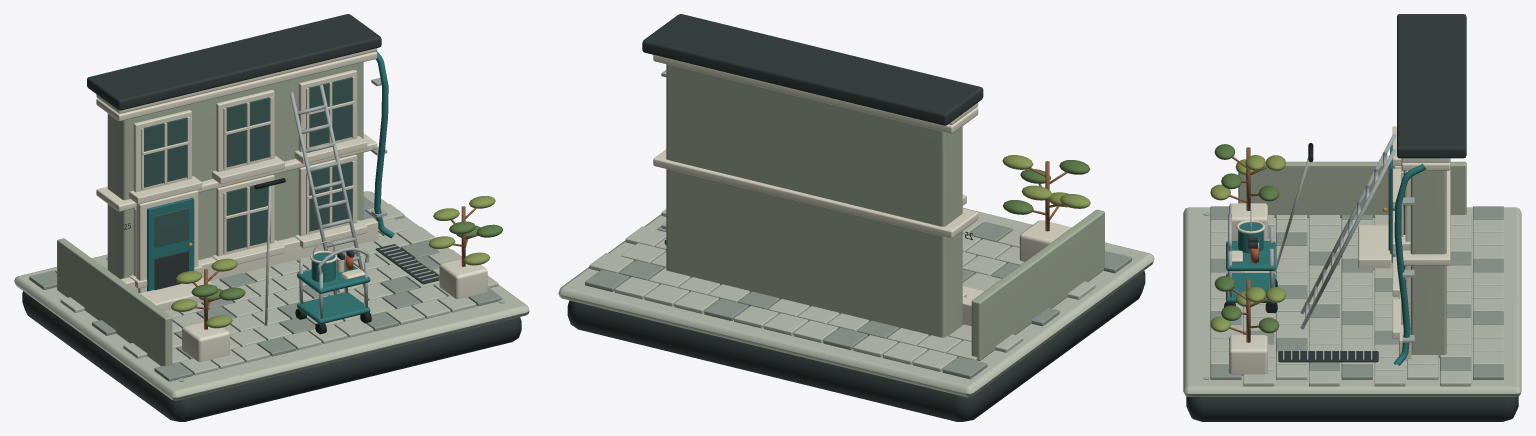
File: potera-v2.glb
The picture shows the model from 3 angles, left to right: view 1: azimuth 30°, elevation 25°; view 2: azimuth 150°, elevation 25°; view 3: azimuth 270°, elevation 25°; orthographic projection. The views are drawn at different scales.
Parts seen in each view (by area): view 1: potera_Warm chalk, potera_Cut limestone, potera_Graphite enamel, potera_Sage plaster, potera_Smoked window, potera_Petrol enamel, potera_Concrete, potera_Brushed aluminum, potera_Sunlit foliage, potera_Olive foliage, potera_Oiled timber, potera_Rubber and cables; view 2: potera_Sage plaster, potera_Graphite enamel, potera_Cut limestone, potera_Warm chalk, potera_Concrete, potera_Sunlit foliage, potera_Olive foliage; view 3: potera_Cut limestone, potera_Graphite enamel, potera_Sage plaster, potera_Concrete, potera_Warm chalk, potera_Petrol enamel, potera_Brushed aluminum, potera_Sunlit foliage, potera_Olive foliage, potera_Oiled timber.
Part boxes in pixels (x1,y1,x2,y2): potera_Warm chalk: [96, 48, 487, 361]; potera_Cut limestone: [14, 191, 529, 400]; potera_Graphite enamel: [22, 14, 521, 421]; potera_Sage plaster: [57, 62, 363, 366]; potera_Smoked window: [143, 77, 352, 251]; potera_Petrol enamel: [147, 51, 394, 324]; potera_Concrete: [29, 196, 501, 381]; potera_Brushed aluminum: [178, 78, 504, 381]; potera_Sunlit foliage: [171, 196, 495, 328]; potera_Olive foliage: [191, 221, 502, 300]; potera_Oiled timber: [193, 206, 478, 329]; potera_Rubber and cables: [254, 178, 371, 334]; potera_Sage plaster: [666, 64, 1104, 360]; potera_Graphite enamel: [567, 14, 1145, 421]; potera_Cut limestone: [558, 208, 1154, 397]; potera_Warm chalk: [653, 55, 1071, 326]; potera_Concrete: [585, 222, 1131, 379]; potera_Sunlit foliage: [1002, 155, 1090, 208]; potera_Olive foliage: [1003, 160, 1089, 214]; potera_Cut limestone: [1183, 207, 1521, 396]; potera_Graphite enamel: [1186, 14, 1518, 421]; potera_Sage plaster: [1238, 161, 1466, 357]; potera_Concrete: [1210, 206, 1503, 379]; potera_Warm chalk: [1229, 126, 1450, 375]; potera_Petrol enamel: [1226, 144, 1425, 365]; potera_Brushed aluminum: [1203, 133, 1414, 379]; potera_Sunlit foliage: [1210, 155, 1286, 332]; potera_Olive foliage: [1214, 144, 1279, 333]; potera_Oiled timber: [1229, 147, 1267, 342].
Size of the model in its own units: 5.43 by 3.55 by 4.23.
